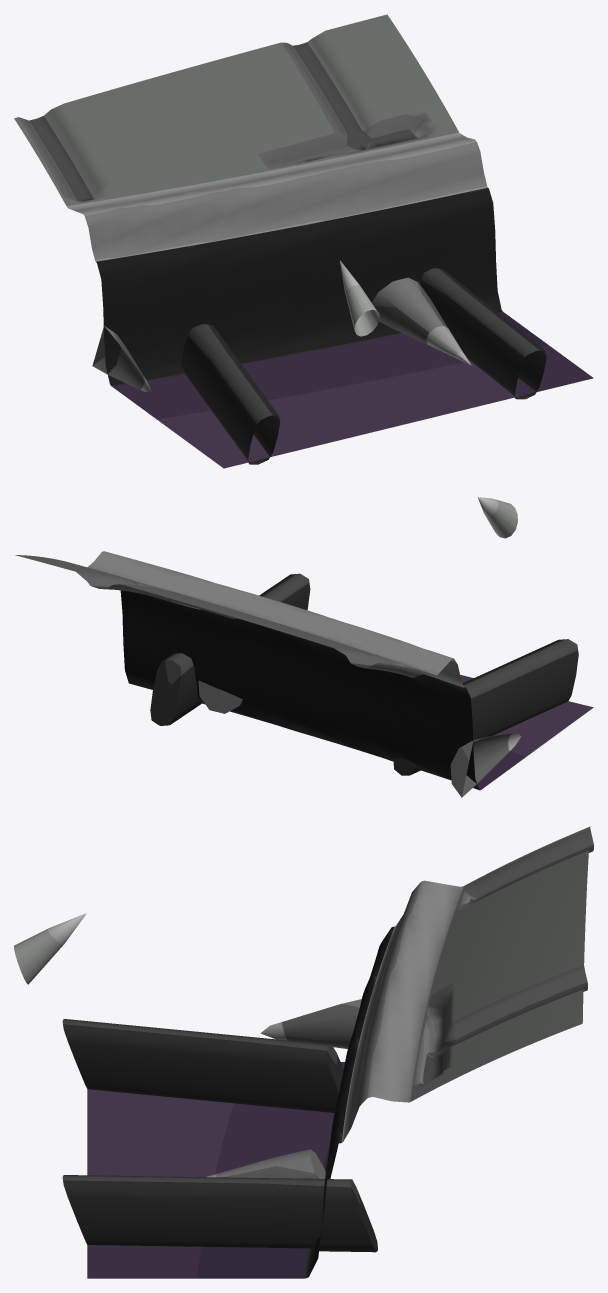
Rendered from coral_citadel_121.glb.
The picture shows the model from 3 angles, top to bottom: view 1: azimuth 30°, elevation 25°; view 2: azimuth 150°, elevation 25°; view 3: azimuth 270°, elevation 25°; orthographic projection. The views are drawn at different scales.
Parts seen in each view (by area): view 1: coral_citadel_121; view 2: coral_citadel_121; view 3: coral_citadel_121.
Part boxes in pixels (x1,y1,x2,y2): coral_citadel_121: (14, 14, 593, 468); coral_citadel_121: (15, 497, 593, 797); coral_citadel_121: (14, 826, 593, 1278).
Bounding box in the file's own units: 24 × 13.51 × 27.17.
